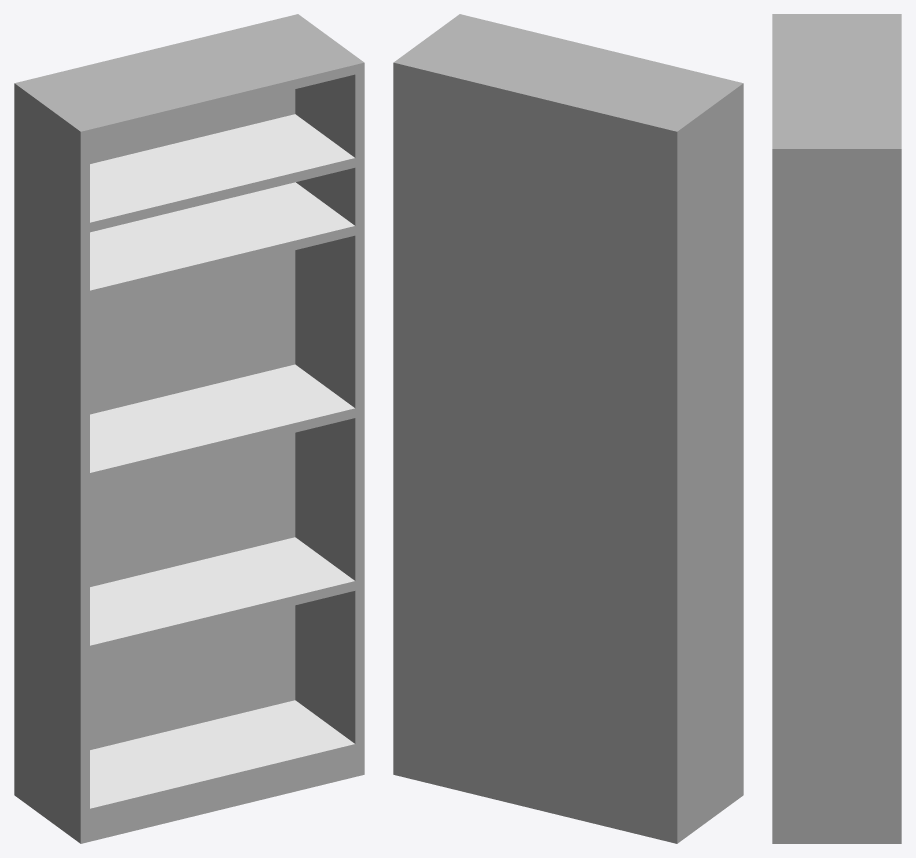
Rendered from rightShelves.dae.
3 renders of one model, left to right at view 1: azimuth 30°, elevation 25°; view 2: azimuth 150°, elevation 25°; view 3: azimuth 270°, elevation 25°, orthographic. The views are drawn at different scales.
Parts seen in each view (by area): view 1: SketchUp (×11); view 2: SketchUp; view 3: SketchUp.
Boxes of the visible parts, x1,y1,x2,y2 form: SketchUp (×11): (14, 14, 364, 843); SketchUp: (393, 14, 743, 843); SketchUp: (772, 14, 901, 843).
Size of the model in its own units: 30.12 by 12.2 by 72.24.
2 materials, 1 textured.
